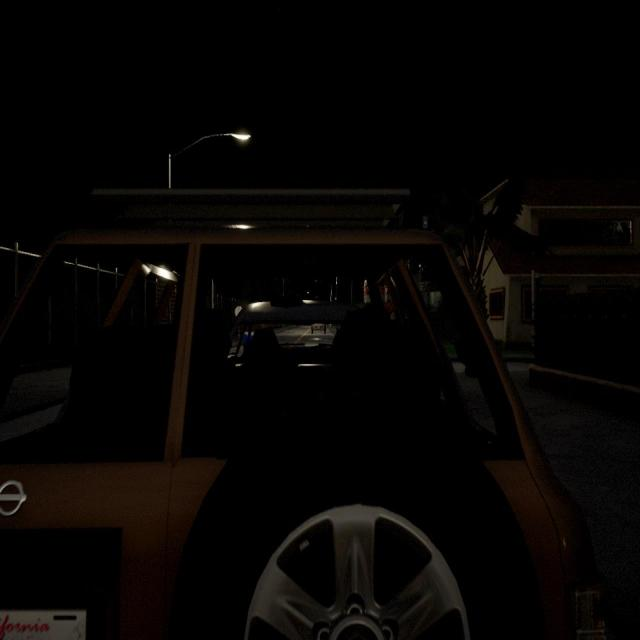Vehicle: (1, 189, 606, 640), (230, 300, 350, 366), (311, 323, 326, 334)
traffic_light: (534, 278, 543, 304)
